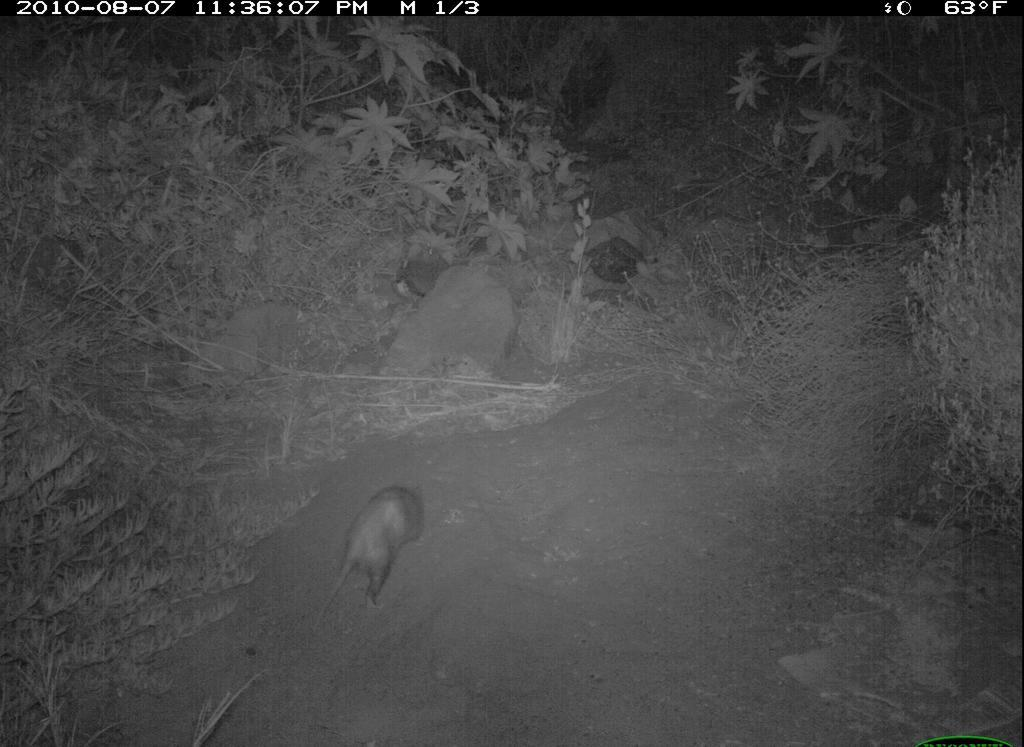opossum: (303, 469, 447, 639)
